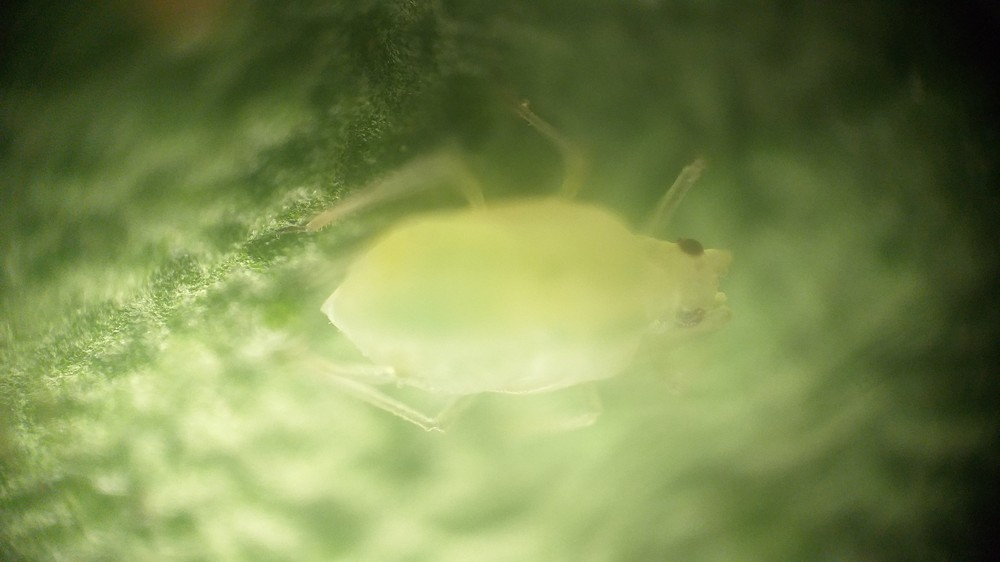Pulgon: (293, 107, 786, 490)
